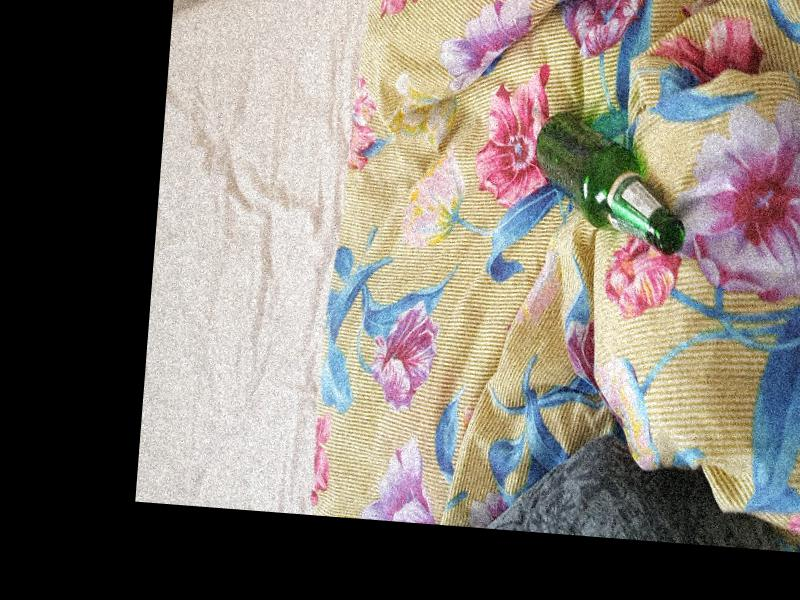Beer: (530, 110, 694, 253)
